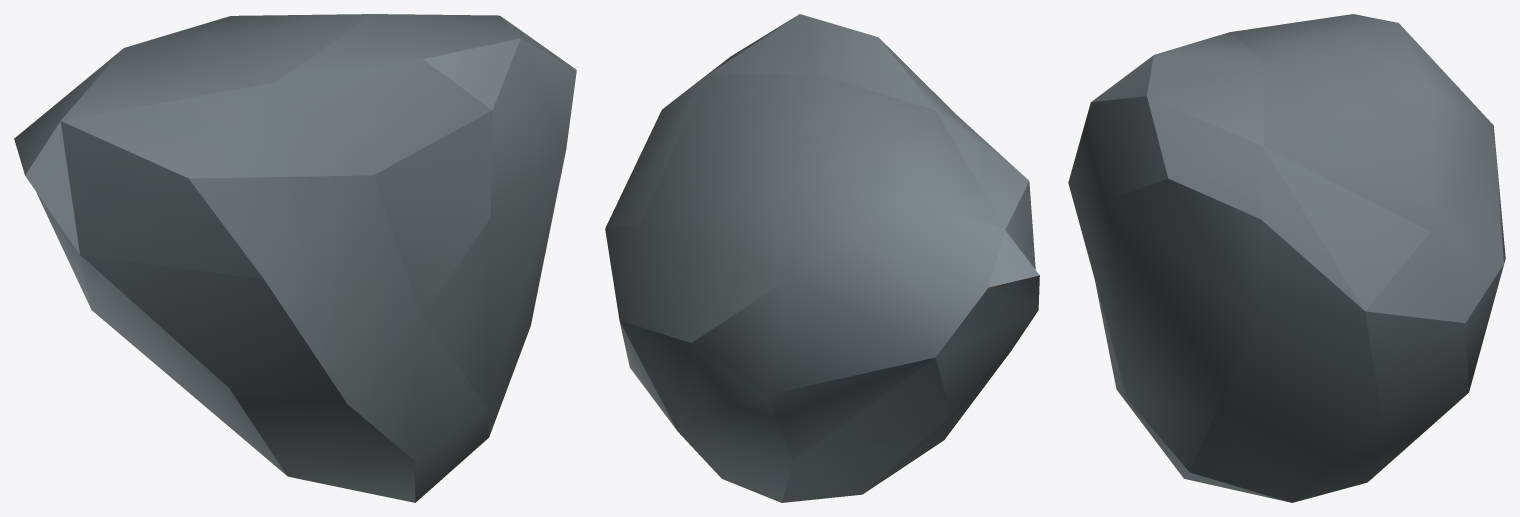
File: rock_3_a_color1.glb
3 renders of one model, left to right at view 1: azimuth 30°, elevation 25°; view 2: azimuth 150°, elevation 25°; view 3: azimuth 270°, elevation 25°, orthographic. The views are drawn at different scales.
Visible parts, largest first — view 1: Rock_3_A_Color1; view 2: Rock_3_A_Color1; view 3: Rock_3_A_Color1.
Boxes of the visible parts, left/top/right/bottom form: Rock_3_A_Color1: left=14, top=14, right=576, bottom=502; Rock_3_A_Color1: left=605, top=14, right=1039, bottom=502; Rock_3_A_Color1: left=1068, top=14, right=1505, bottom=502.
Bounding box in the file's own units: 0.9563 × 0.8589 × 0.8075.
Materials: 1 (1 with a texture image).
